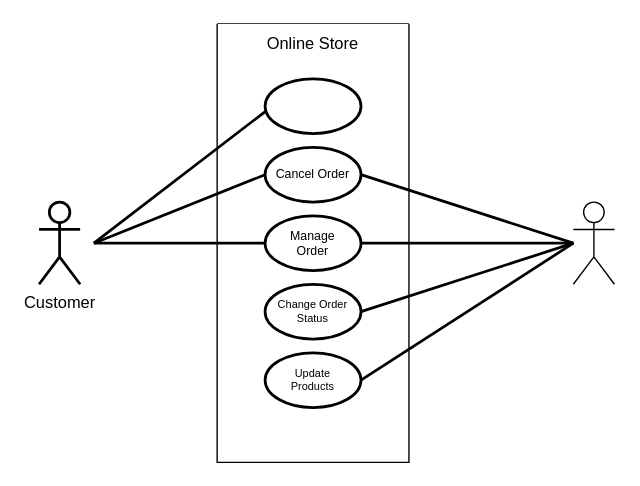
Image size: 640x486. Some labels were removed from this diagram. The box of each missing label's shape, as (x1, y1, x2, y2) in pixels:
Admin: (572, 201, 614, 284)
Place Order: (263, 77, 362, 134)
